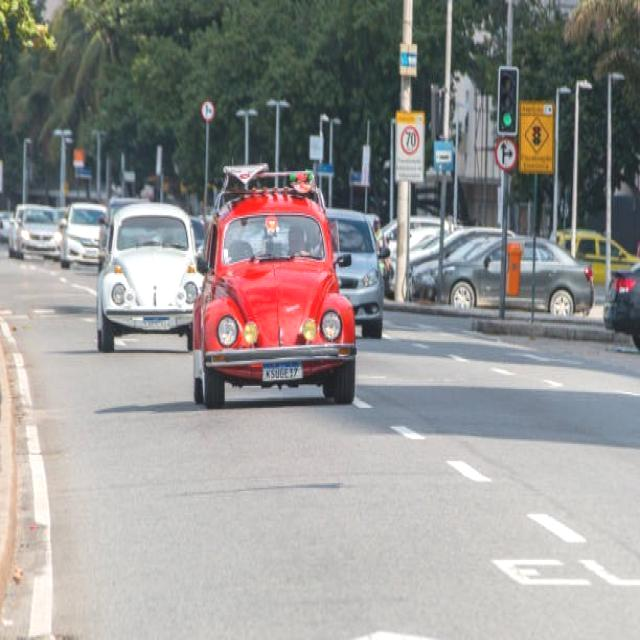car: (193, 183, 357, 409), (94, 196, 206, 344), (16, 200, 62, 265), (64, 204, 111, 264)
